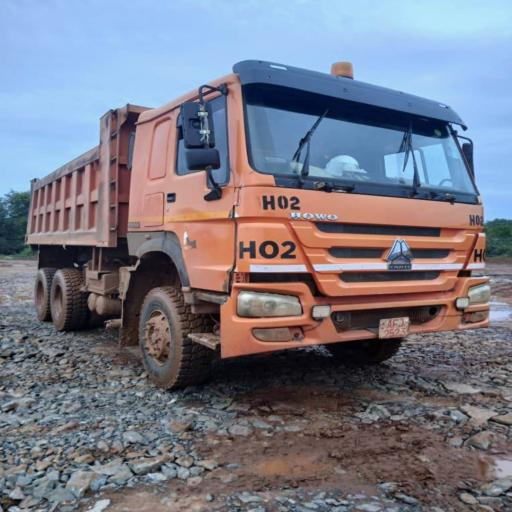number-plates: (380, 320, 410, 341)
